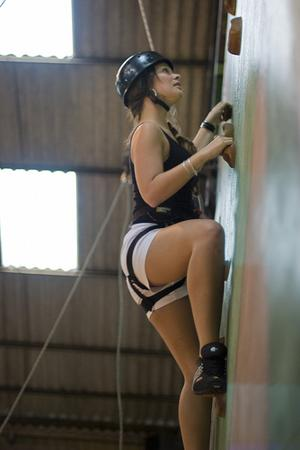person: (116, 49, 236, 450)
